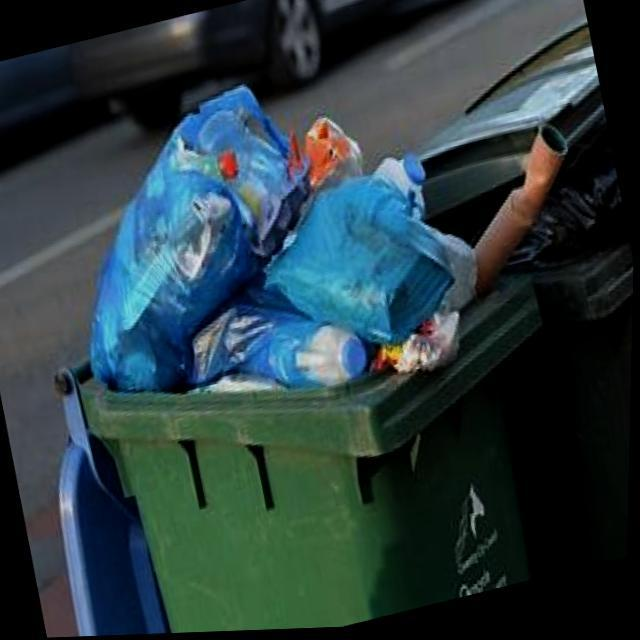Garbage: (91, 91, 629, 392)
Metal: (475, 127, 568, 300)
Plastic: (160, 86, 363, 260), (194, 286, 319, 388), (218, 150, 239, 182)
Plastic_Bag: (92, 153, 260, 391), (266, 179, 476, 368), (511, 129, 630, 271)
Plastic_bottle: (296, 327, 368, 388), (374, 155, 426, 222)
